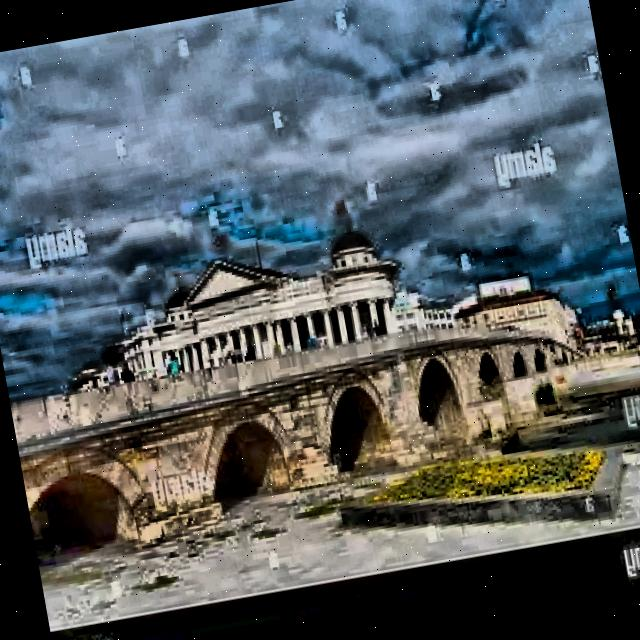stone bridge: (9, 299, 610, 561)
